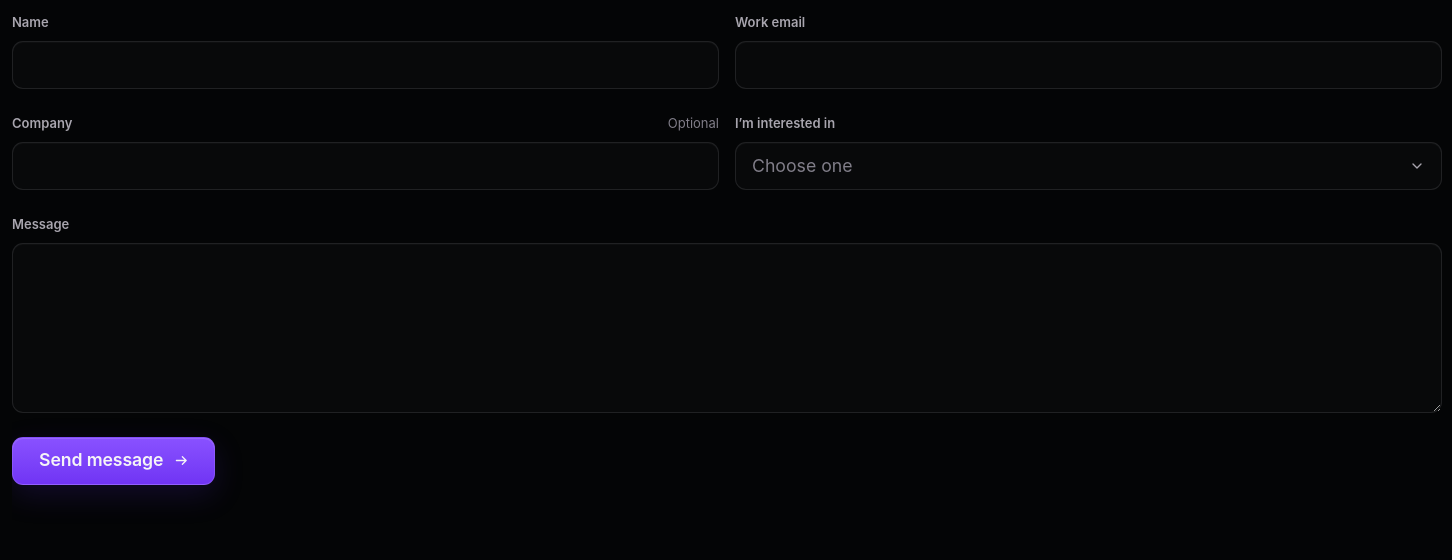
Test: ContactForm › keeps the message and explains the failure when delivery fails
The width and height of the screenshot is (1452, 560).
In the field labelled "Name": (366, 65) [12,41,719,89], type "Ada Lovelace"
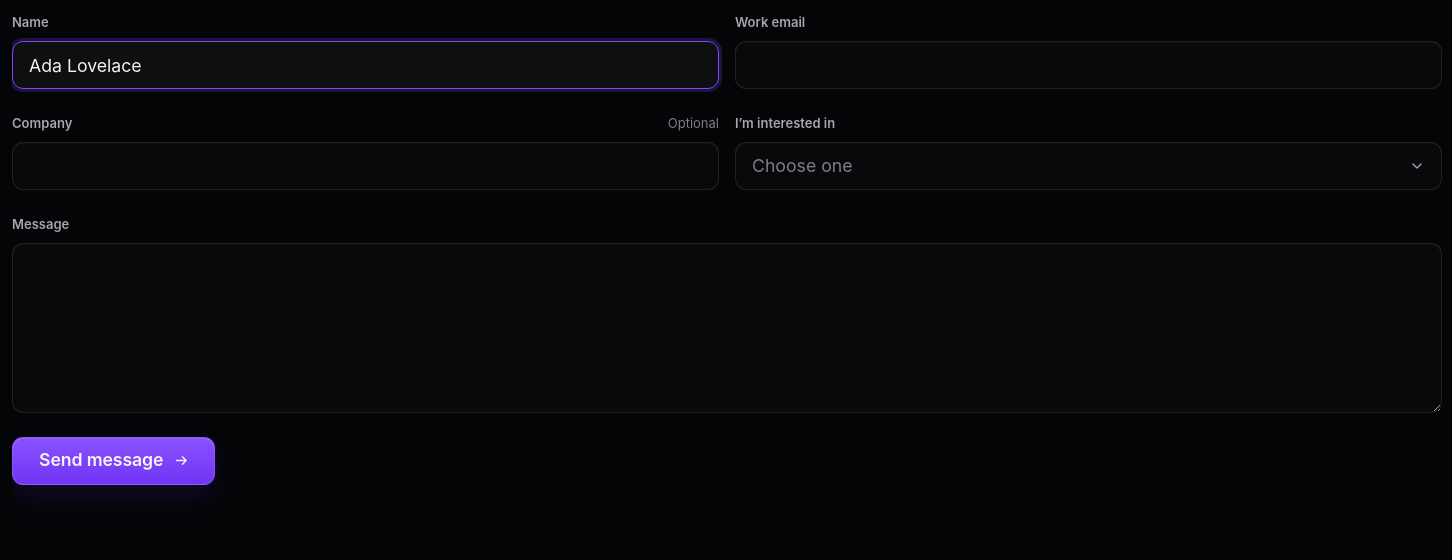
In the field labelled "Work email": (1088, 65) [735,41,1442,89], type "ada@operator.example"
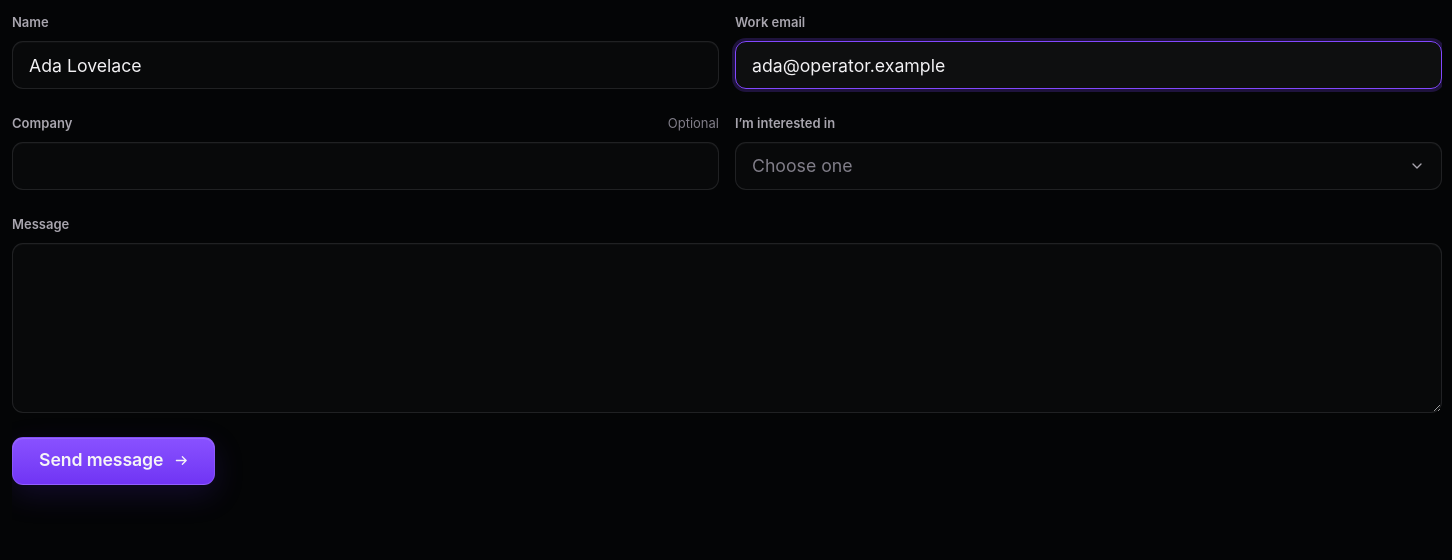
Click the dropdown named "I’m interested in": (802, 165) [735,142,1442,190]
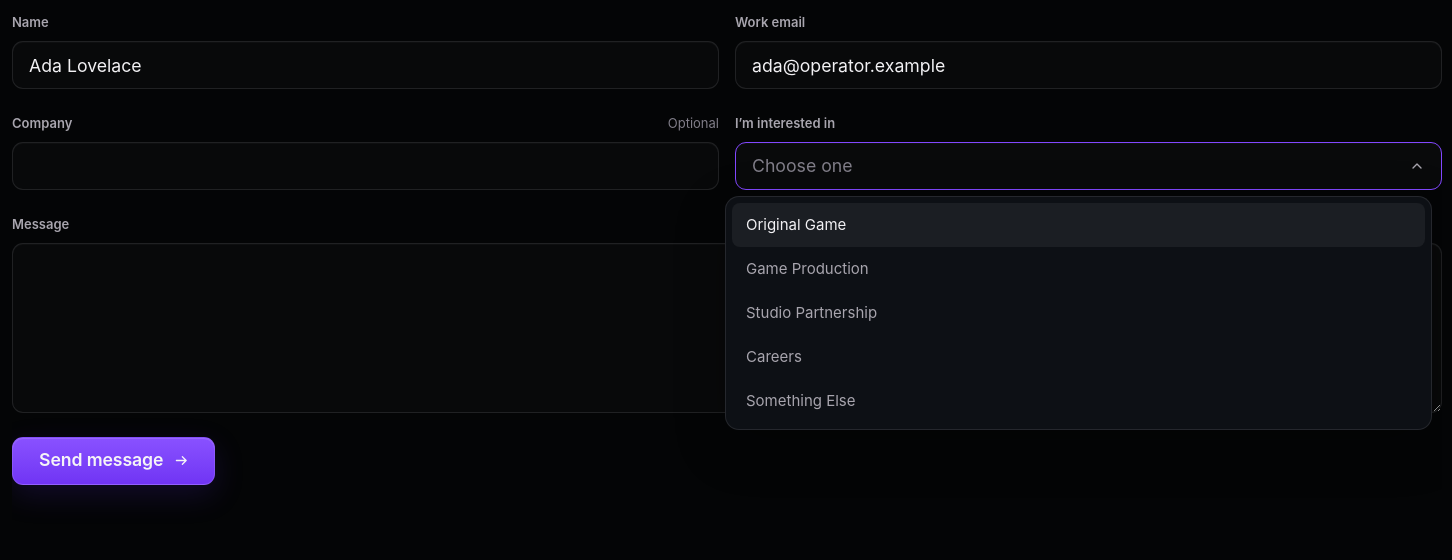
Click the option "Game Production": (807, 268) [746,259,869,278]
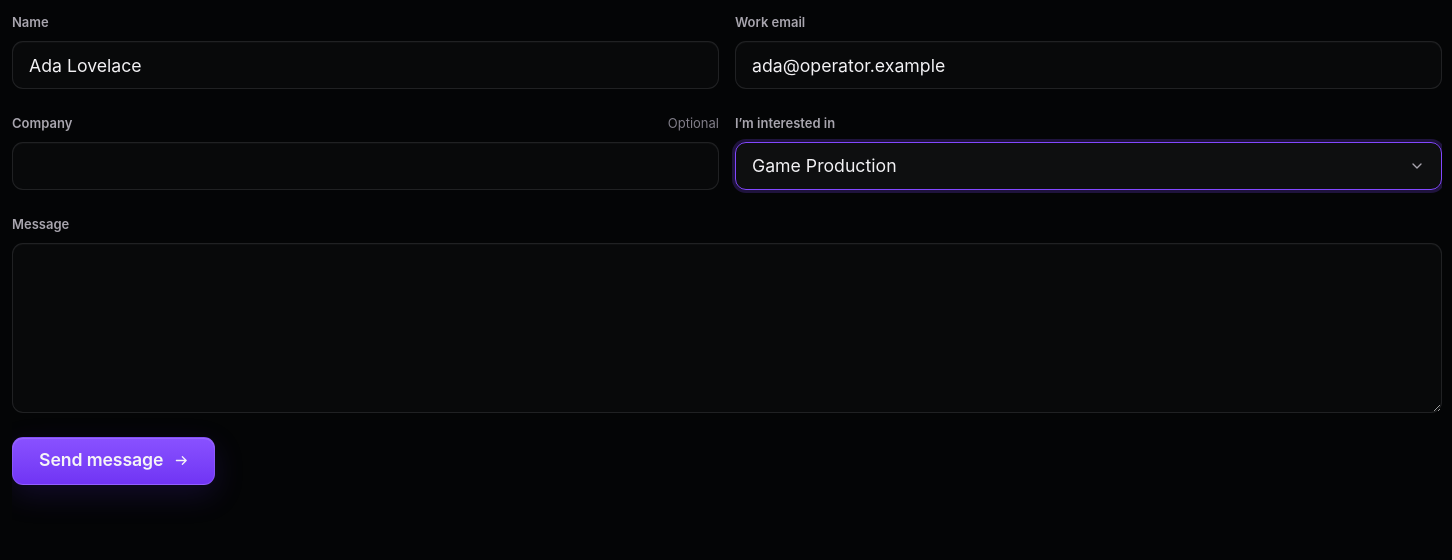
In the text box labelled "Message": (727, 328) [12,243,1442,413], type "We would like to discuss game production."
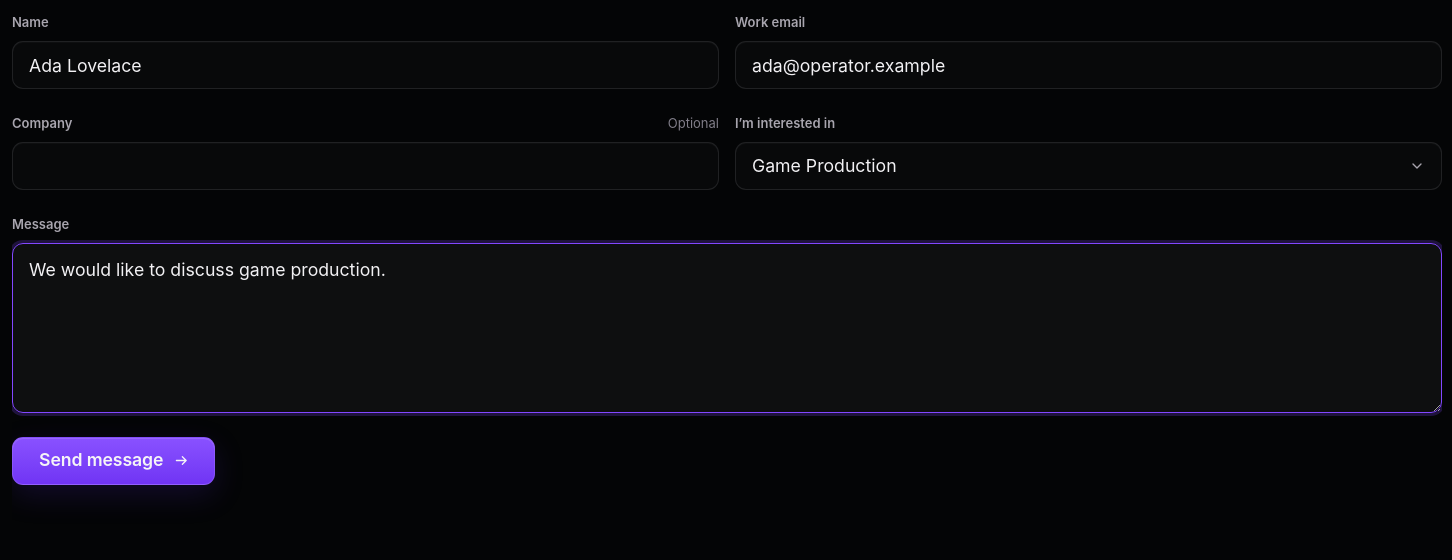
Click the button "Send message": (114, 461) [12,437,215,485]
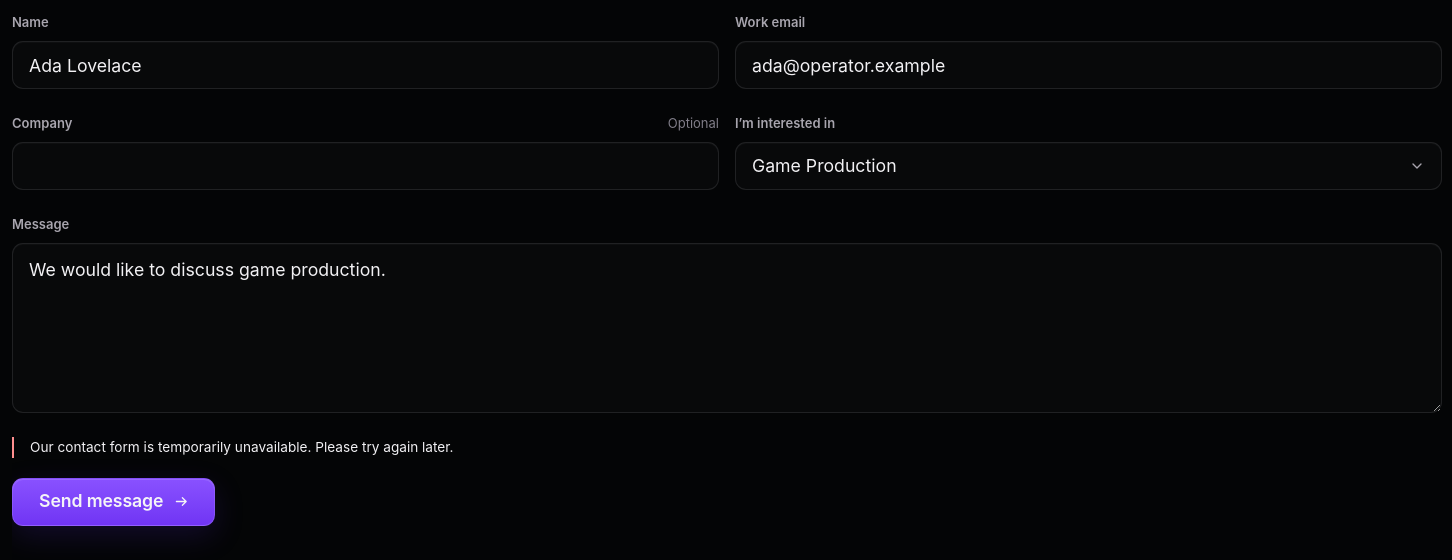
Expected: the button "Send message" is enabled, [12,478,215,526]
Expected: the message shows "temporarily unavailable", [30,439,454,455]
